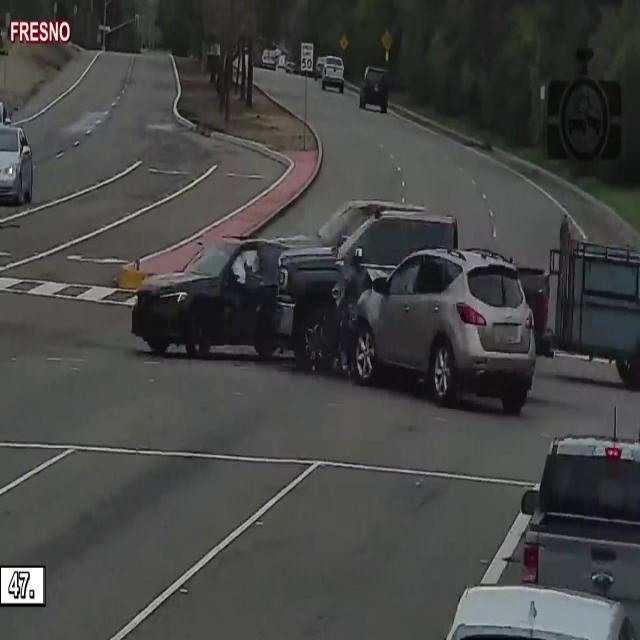accident: (126, 203, 542, 422)
